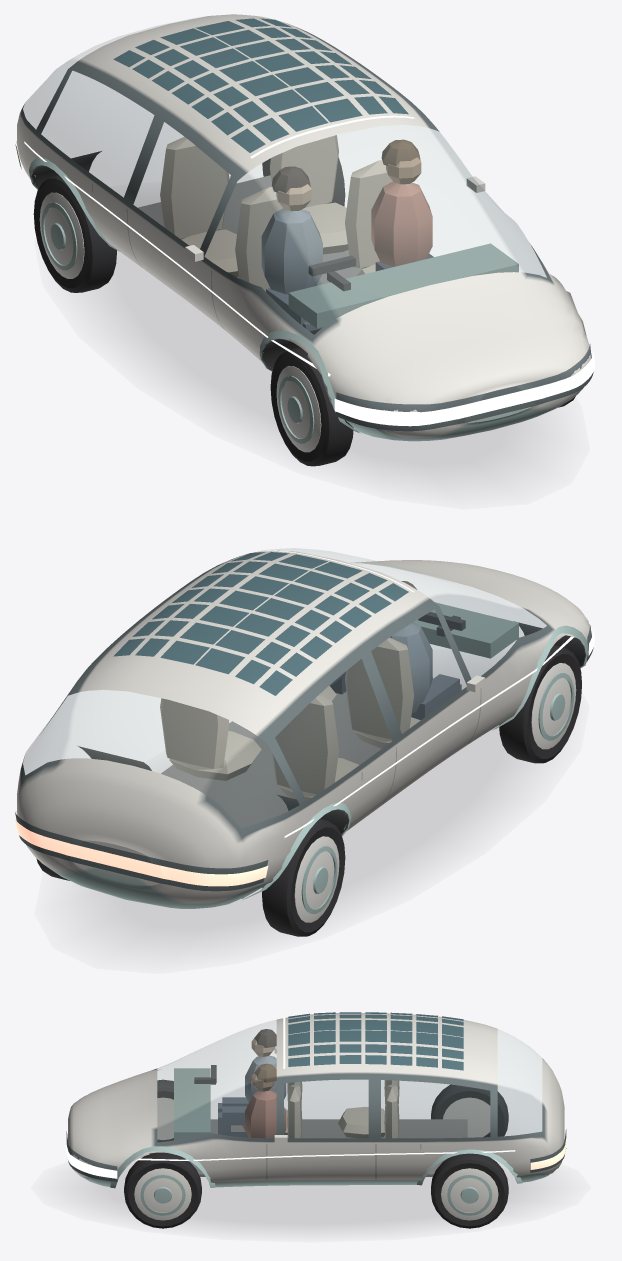
The model's file is car-green-2127.glb.
3 renders of one model, top to bottom at view 1: azimuth 30°, elevation 25°; view 2: azimuth 150°, elevation 25°; view 3: azimuth 270°, elevation 25°, orthographic. The views are drawn at different scales.
Visible parts, largest first — view 1: car_green_shell, car_green_parts; view 2: car_green_shell, car_green_parts; view 3: car_green_shell, car_green_parts.
Boxes of the visible parts, x1,y1,x2,y2 form: car_green_shell: [14, 14, 594, 441]; car_green_parts: [33, 135, 575, 470]; car_green_shell: [14, 548, 594, 908]; car_green_parts: [36, 581, 581, 936]; car_green_shell: [66, 1012, 566, 1188]; car_green_parts: [96, 1029, 525, 1228].
Size of the model in its own units: 2.6 by 1.63 by 5.5.
